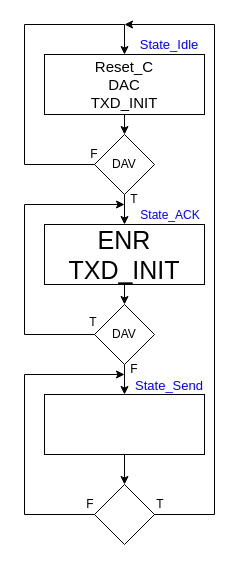
The diagram is 240 pixels wide and 562 high, and some of its shapes have lost their labels. The shapes that lost their labels are listed below. From the top down, each one's box as (x1, y1, x2, y2) in pixels, then its label:
(44, 394, 204, 454): ENC
(94, 484, 154, 544): CFlag
